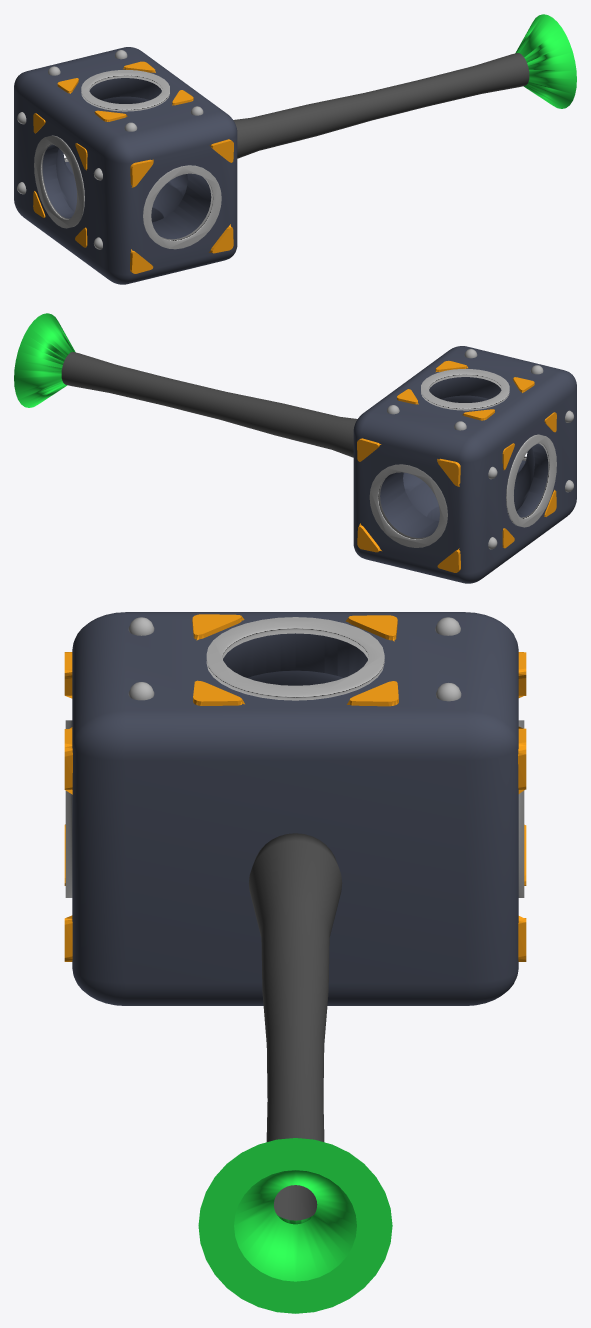
The model's file is Hammer.fbx.
3 renders of one model, top to bottom at view 1: azimuth 30°, elevation 25°; view 2: azimuth 150°, elevation 25°; view 3: azimuth 270°, elevation 25°, orthographic. The views are drawn at different scales.
Visible parts, largest first — view 1: Main, Handle, Inside, Cone, Cylinder.001, Cylinder.002, Ring.F, Tri-L.003, Tri-R.003, Tri-U.003, Tri-D.003; view 2: Main, Handle, Inside, Cone, Cylinder.003, Cylinder.002, Ring.F, Tri-R.002, Tri-L.002, Tri-D.002, Tri-U.002; view 3: Main, Cone, Handle, Ring.F, Inside, Tri-U, Tri-R, Cylinder.001, Tri-D, Tri-L.
Boxes of the visible parts, box(x1,y1,x2,y2) form: Main: box(14, 47, 237, 284); Handle: box(233, 53, 529, 158); Inside: box(42, 78, 211, 239); Cone: box(515, 14, 576, 108); Cylinder.001: box(143, 165, 221, 249); Cylinder.002: box(34, 135, 84, 228); Ring.F: box(81, 70, 169, 111); Tri-L.003: box(209, 224, 233, 253); Tri-R.003: box(130, 159, 153, 187); Tri-U.003: box(130, 249, 153, 273); Tri-D.003: box(209, 139, 233, 162); Main: box(353, 346, 576, 583); Handle: box(61, 352, 357, 457); Inside: box(380, 377, 548, 537); Cone: box(14, 313, 75, 407); Cylinder.003: box(369, 464, 447, 547); Cylinder.002: box(506, 434, 556, 527); Ring.F: box(421, 369, 509, 410); Tri-R.002: box(437, 458, 460, 486); Tri-L.002: box(357, 523, 381, 552); Tri-D.002: box(357, 438, 381, 461); Tri-U.002: box(437, 548, 460, 572); Main: box(72, 612, 518, 1005); Cone: box(198, 1138, 392, 1313); Handle: box(248, 833, 342, 1220); Ring.F: box(206, 617, 384, 700); Inside: box(223, 633, 367, 685); Tri-U: box(192, 614, 244, 640); Tri-R: box(345, 615, 397, 641); Cylinder.001: box(65, 720, 72, 897); Tri-D: box(347, 681, 398, 706); Tri-L: box(193, 680, 244, 705).
Size of the model in its own units: 61866 by 18978 by 24890.
